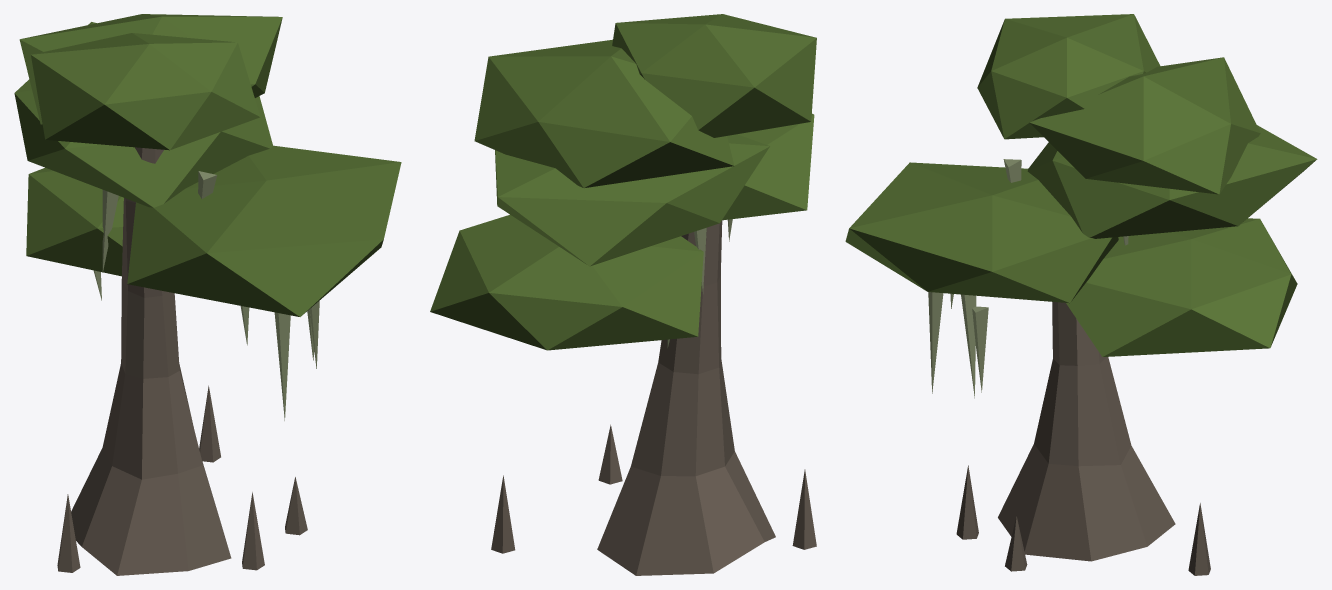
The model's file is Tree_Cypress_B.glb.
3 views of the same model, side by side, from view 1: azimuth 30°, elevation 25°; view 2: azimuth 150°, elevation 25°; view 3: azimuth 270°, elevation 25° (orthographic). The views are drawn at different scales.
Parts seen in each view (by area): view 1: Tree_Cypress_B; view 2: Tree_Cypress_B; view 3: Tree_Cypress_B.
Boxes of the visible parts, box(x1,y1,x2,y2) form: Tree_Cypress_B: box(14, 14, 401, 575); Tree_Cypress_B: box(430, 14, 816, 575); Tree_Cypress_B: box(845, 14, 1317, 575).
Size of the model in its own units: 2.92 by 4.5 by 3.94.
